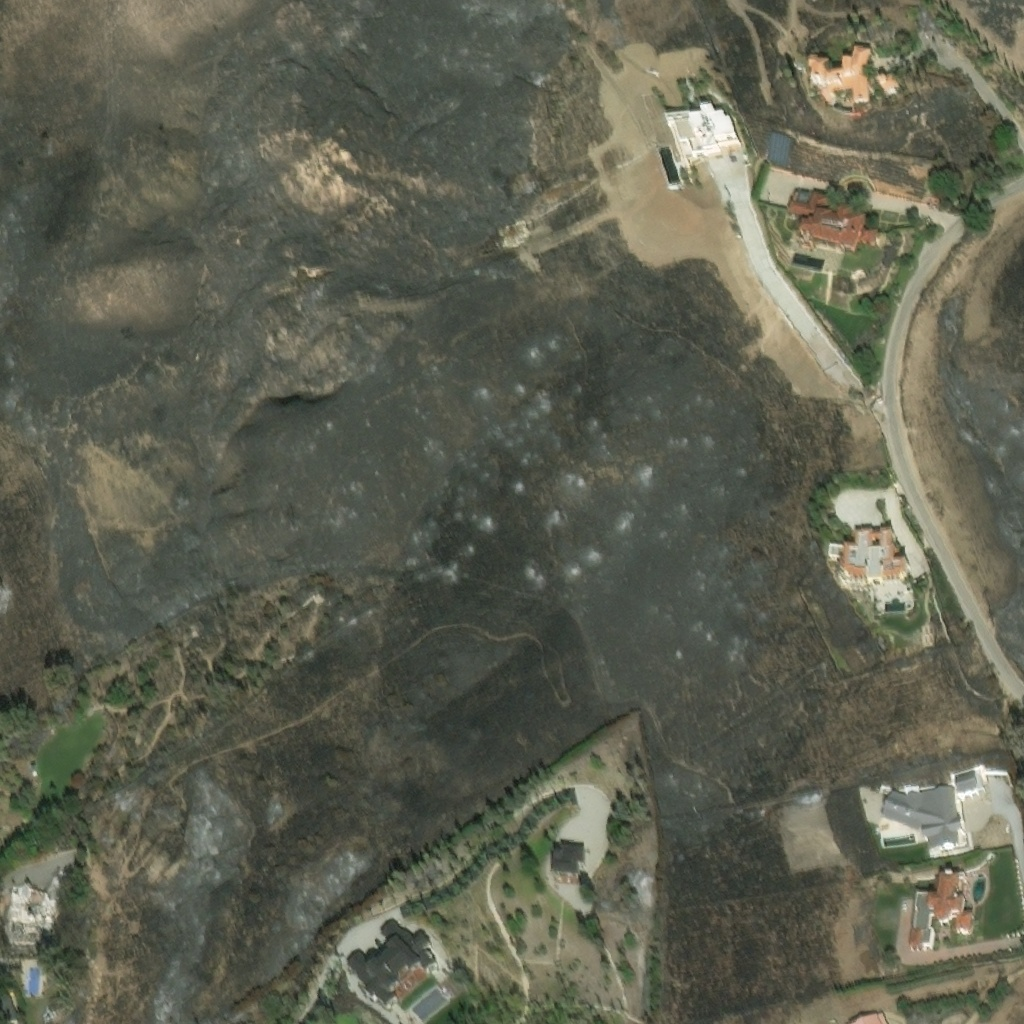0 no-damage: (345, 914, 435, 1005), (786, 187, 876, 249), (663, 99, 737, 169), (907, 871, 972, 947), (877, 778, 958, 829), (806, 47, 871, 106), (655, 142, 684, 190), (549, 836, 582, 878), (0, 991, 19, 1023), (846, 1008, 886, 1023), (878, 74, 898, 94), (953, 767, 975, 781), (51, 1004, 67, 1019)
1 minor-damage: (826, 526, 907, 577)
2 major-damage: (8, 874, 66, 945)
